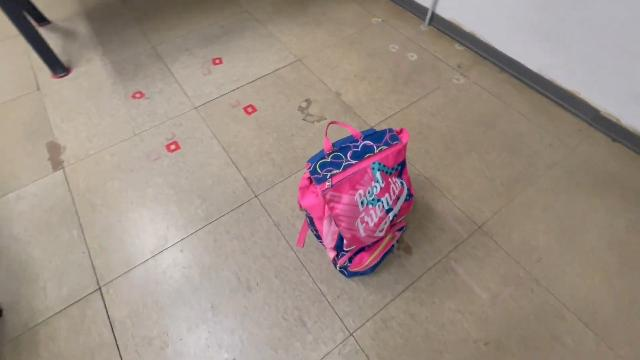Backpack: (291, 114, 421, 283)
